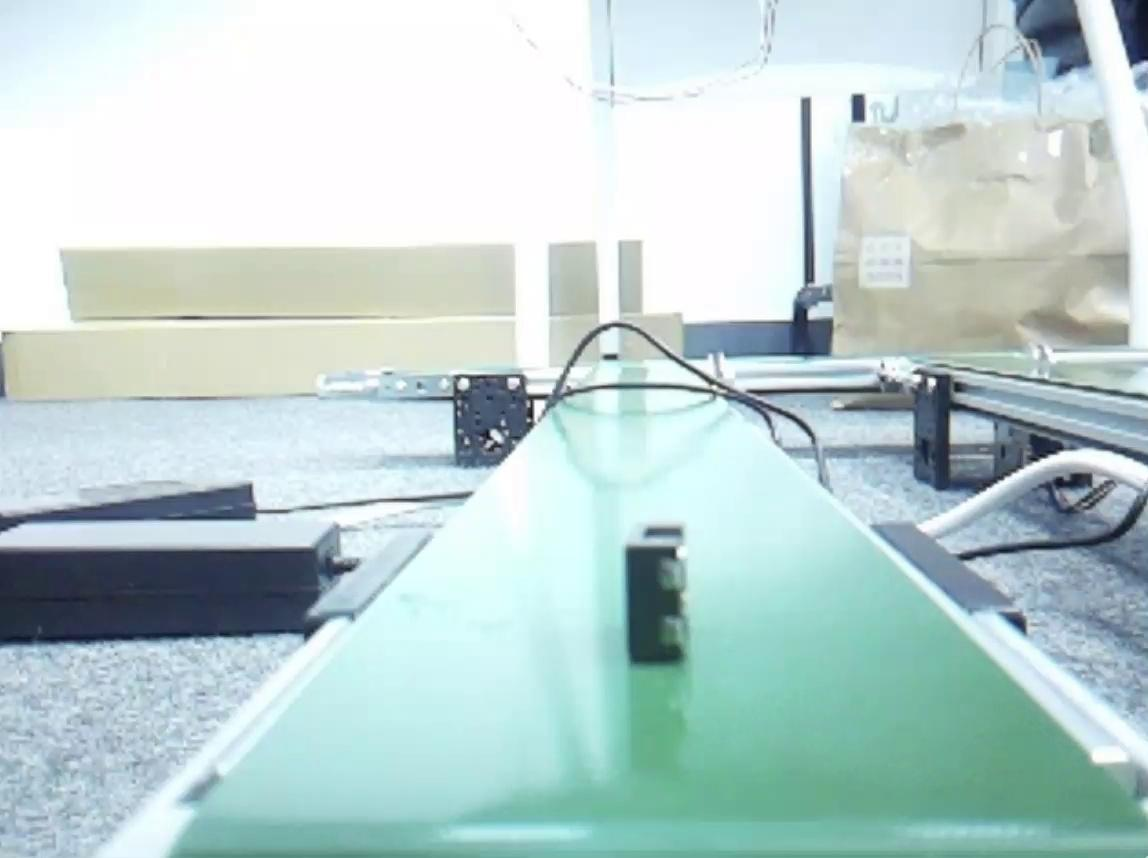inductor: (625, 515, 689, 661)
